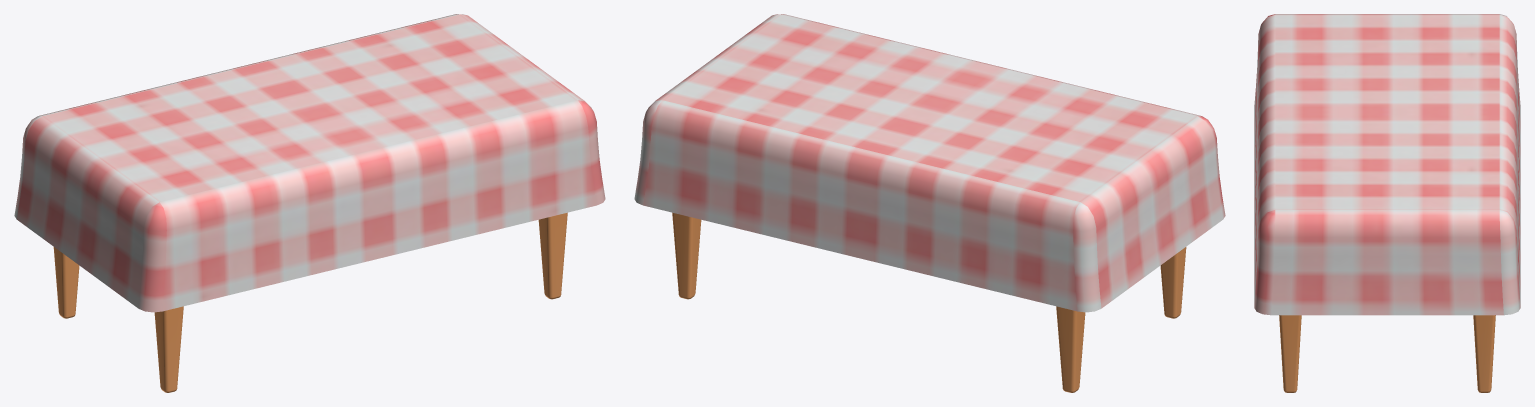
Rendered from Table.fbx.
3 views of the same model, side by side, from view 1: azimuth 30°, elevation 25°; view 2: azimuth 150°, elevation 25°; view 3: azimuth 270°, elevation 25° (orthographic). The views are drawn at different scales.
Visible parts, largest first — view 1: Table; view 2: Table; view 3: Table.
Boxes of the visible parts, x1,y1,x2,y2 form: Table: [14, 14, 605, 392]; Table: [634, 14, 1225, 392]; Table: [1254, 14, 1520, 392].
Size of the model in its own units: 187 by 76.25 by 96.95.
